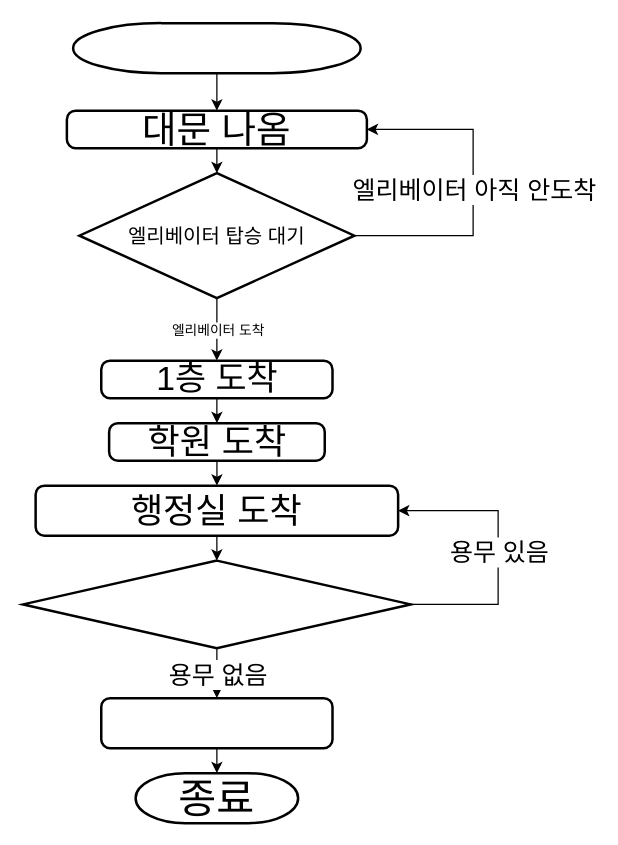
This 618x845 diagram has some shape labels left out. Each missing label, with the centre of its shape:
"506호로" goes at point 216,722.
"시작" goes at point 216,47.
"용무 유무" goes at point 216,604.
